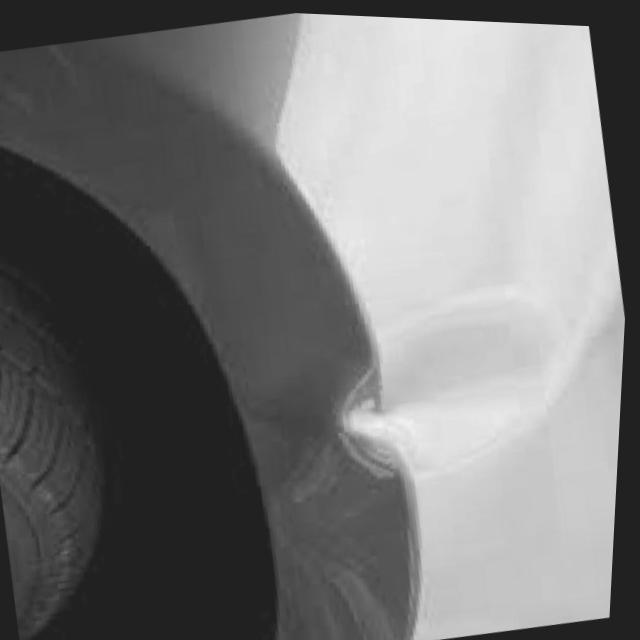Dent: (333, 314, 560, 466)
